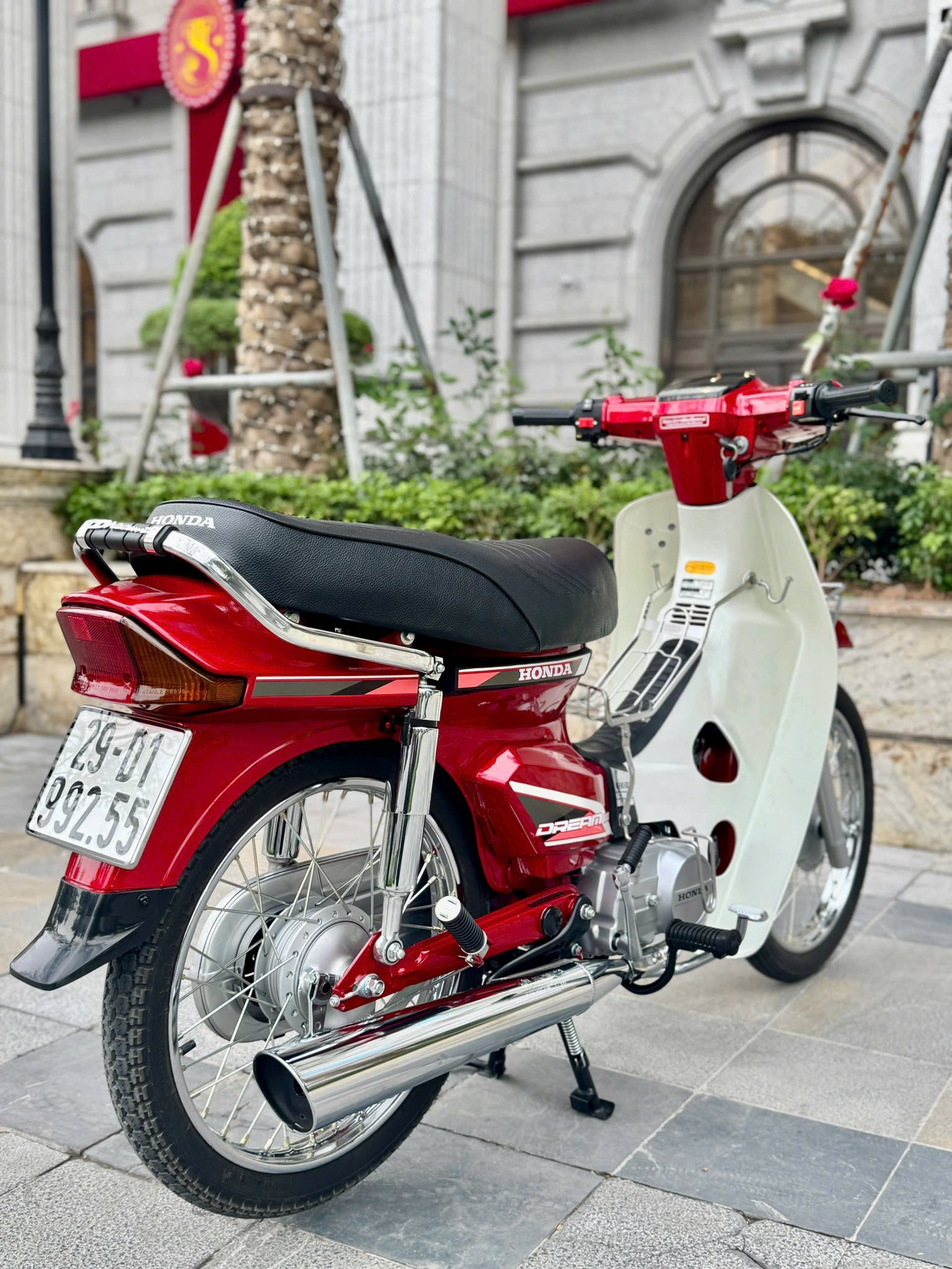bien_so: (18, 698, 199, 877)
